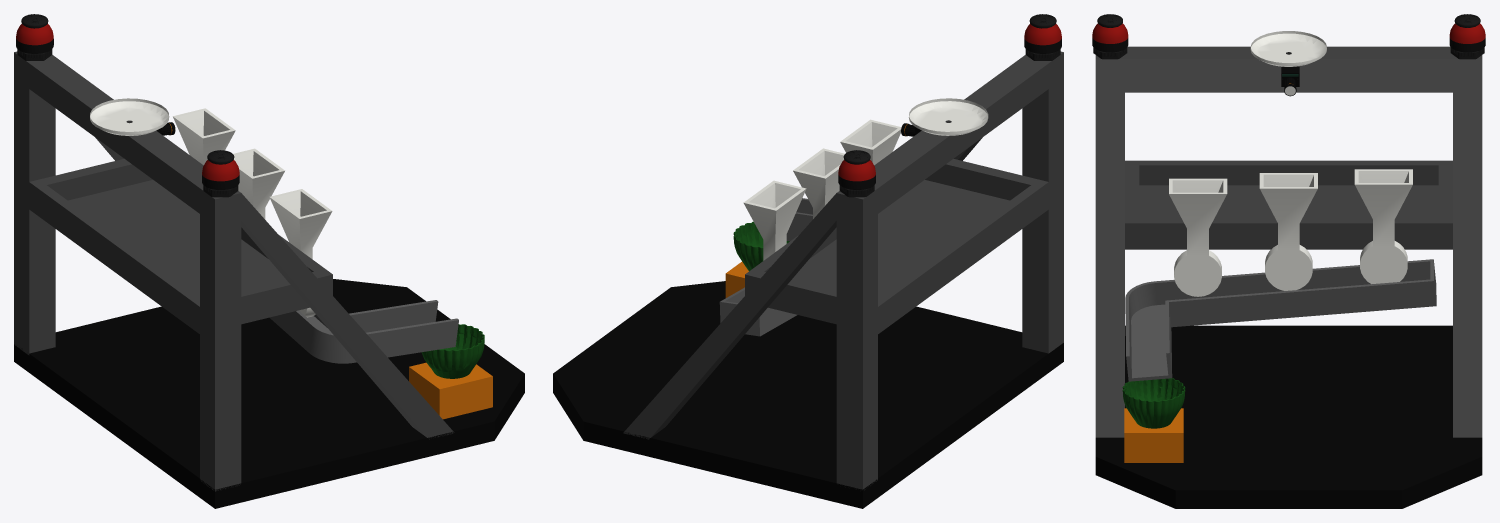
The model's file is upper_frame.dae.
3 views of the same model, side by side, from view 1: azimuth 30°, elevation 25°; view 2: azimuth 150°, elevation 25°; view 3: azimuth 270°, elevation 25° (orthographic). The views are drawn at different scales.
Visible parts, largest first — view 1: robot (×9); view 2: robot (×9); view 3: robot (×9).
Boxes of the visible parts, <box> form: robot (×9): <box>14,14,524,508</box>; robot (×9): <box>553,14,1063,508</box>; robot (×9): <box>1092,14,1485,508</box>.
Bounding box in the file's own units: 0.5643 × 0.5396 × 0.5049.
